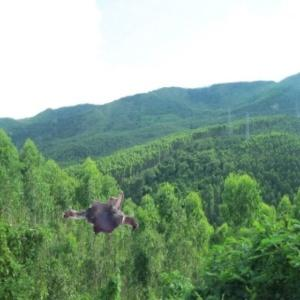drone: (58, 173, 155, 270)
